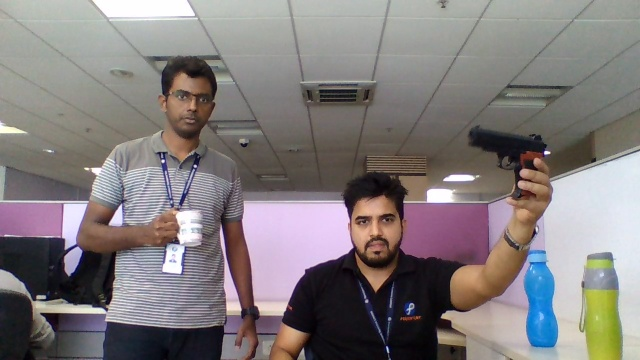gun: (468, 125, 548, 158)
